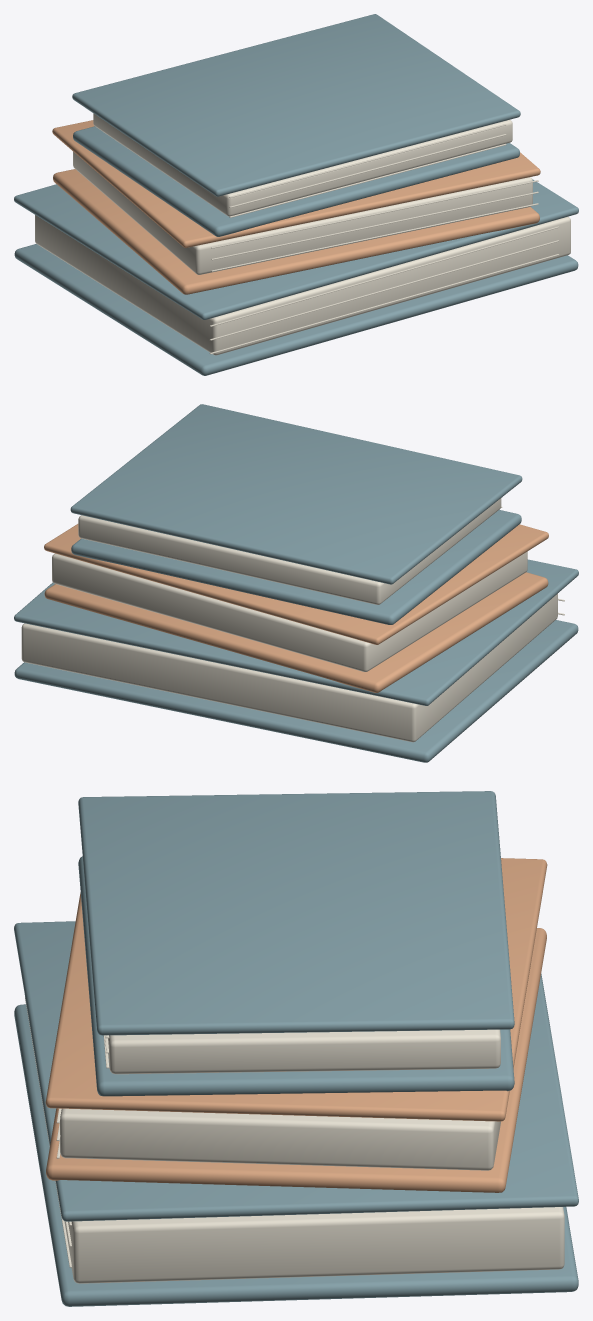
Rendered from book_stack.glb.
3 views of the same model, one above another, from view 1: azimuth 30°, elevation 25°; view 2: azimuth 150°, elevation 25°; view 3: azimuth 270°, elevation 25° (orthographic). The views are drawn at different scales.
Visible parts, largest first — view 1: book_stack__body, book_stack__paper, book_stack__accent; view 2: book_stack__body, book_stack__paper, book_stack__accent; view 3: book_stack__body, book_stack__paper, book_stack__accent.
Part boxes in pixels (box(x1,y1,x2,y2)): book_stack__body: box(14, 14, 578, 375); book_stack__paper: box(35, 113, 570, 355); book_stack__accent: box(52, 120, 540, 294); book_stack__body: box(14, 404, 578, 762); book_stack__paper: box(21, 497, 564, 742); book_stack__accent: box(44, 524, 548, 692); book_stack__body: box(14, 791, 578, 1306); book_stack__paper: box(25, 997, 564, 1283); book_stack__accent: box(45, 858, 547, 1192).
Bounding box in the file's own units: 0.2518 × 0.095 × 0.1961.
